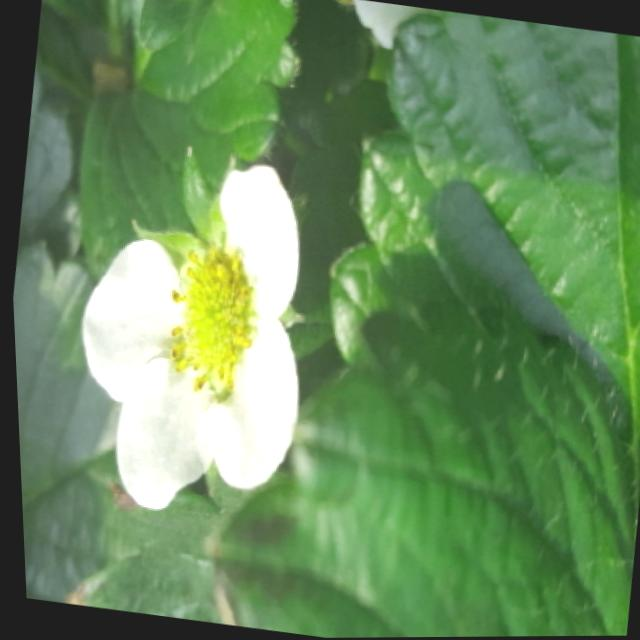Blossom Blight: (159, 236, 259, 406)
